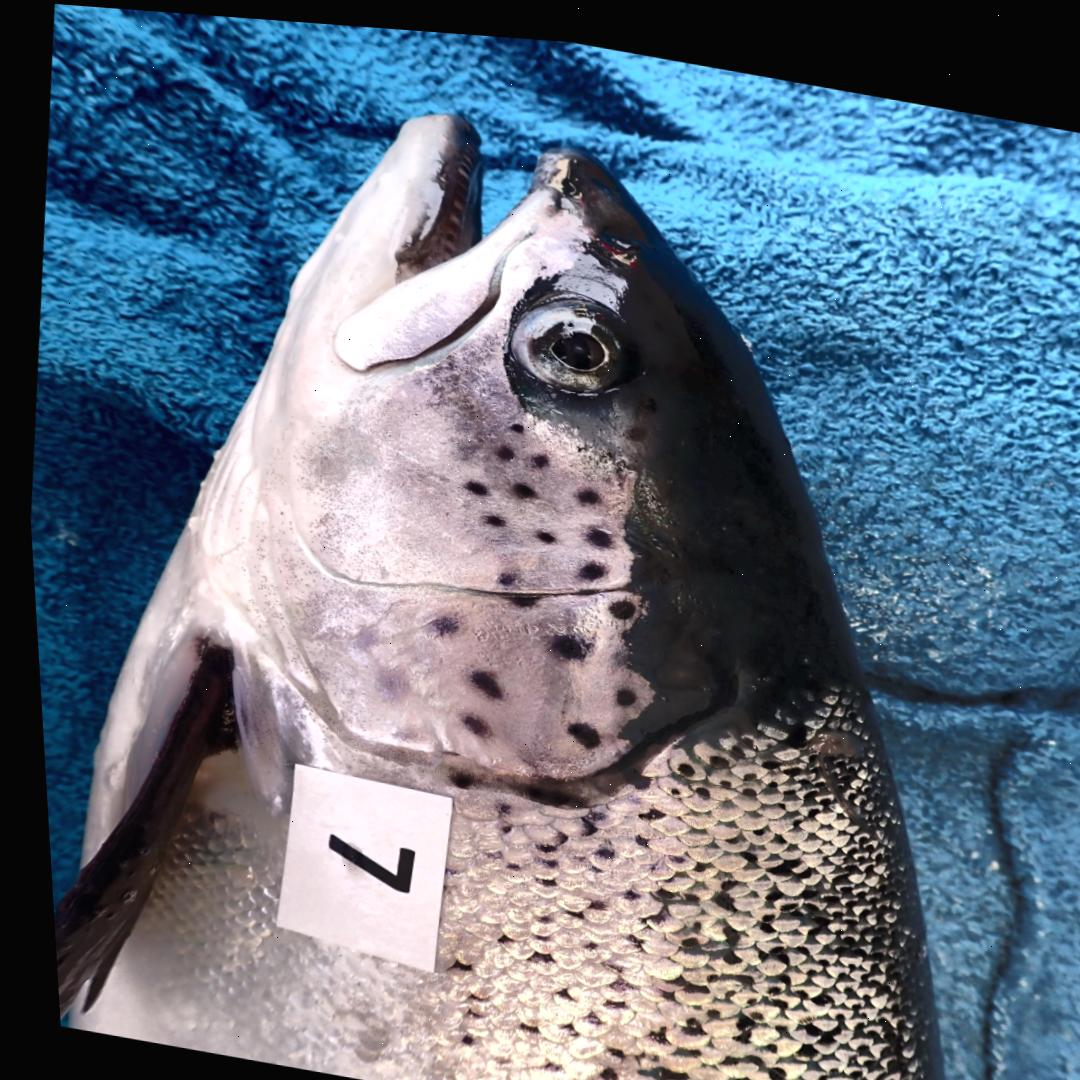spot: (518, 778, 575, 799), (543, 625, 585, 653), (460, 663, 494, 693), (559, 713, 591, 741), (447, 707, 482, 732), (422, 609, 451, 631), (498, 586, 534, 603), (571, 553, 601, 572), (579, 519, 606, 540), (601, 591, 628, 611), (521, 443, 546, 464), (504, 475, 531, 492), (605, 679, 629, 697), (440, 765, 465, 782), (487, 564, 513, 580), (474, 506, 500, 521), (570, 480, 594, 496), (459, 474, 483, 490), (487, 438, 509, 454), (530, 523, 550, 535), (504, 416, 519, 426)
